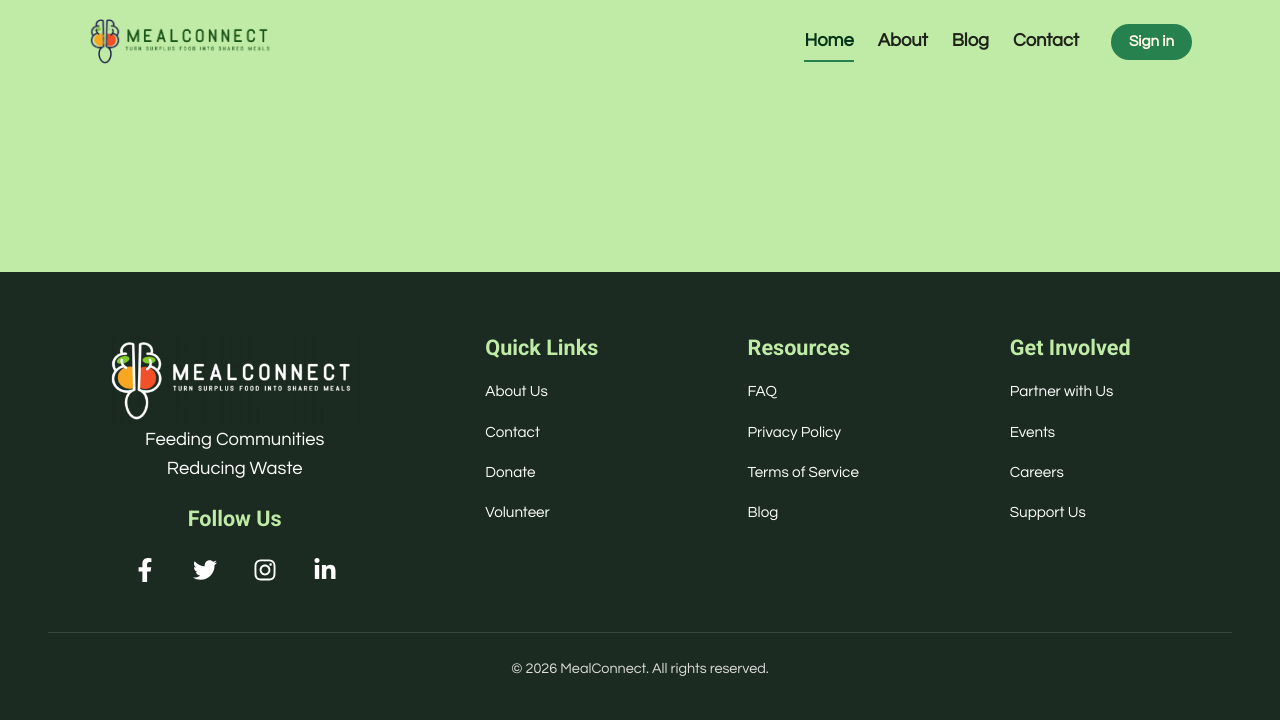
footer navigation › footer link Support Us resolves to a real page
(page scrolled)
Click the link "Support Us".
click(1048, 513)  # box [1010,505,1086,520]
(page scrolled)
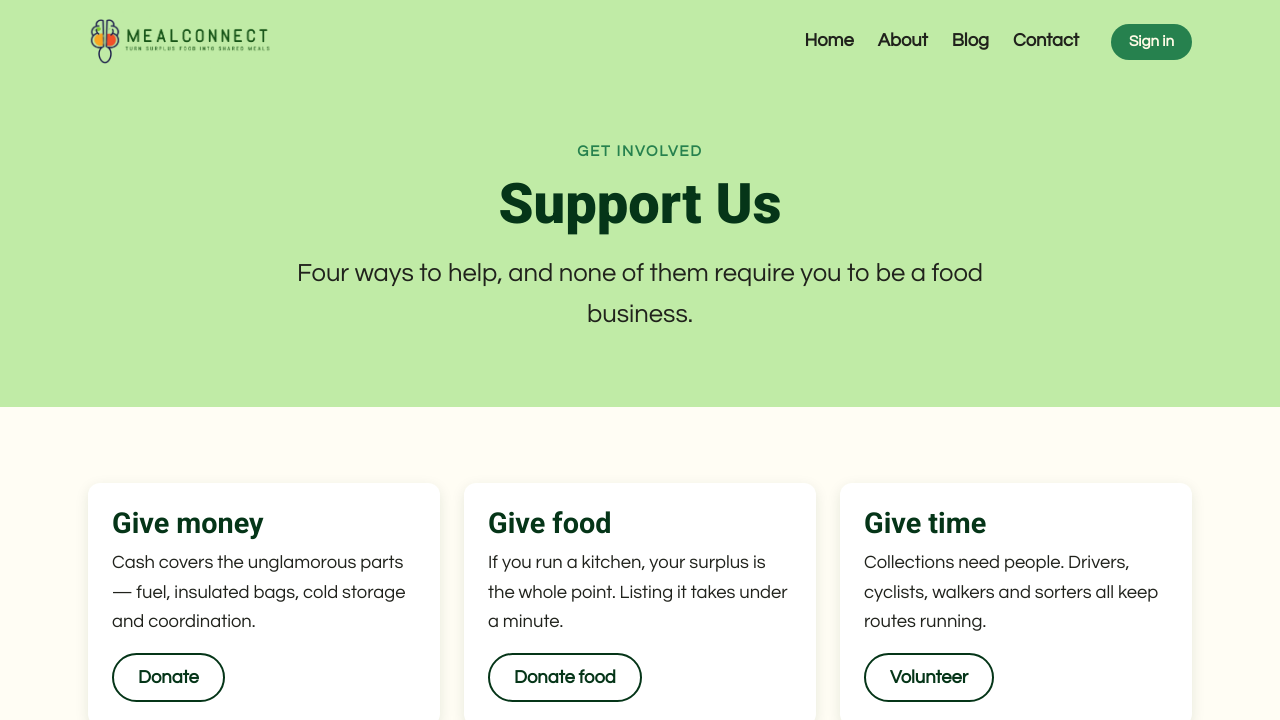
Now the heading "Support Us" is shown, box [498,171,781,237]
